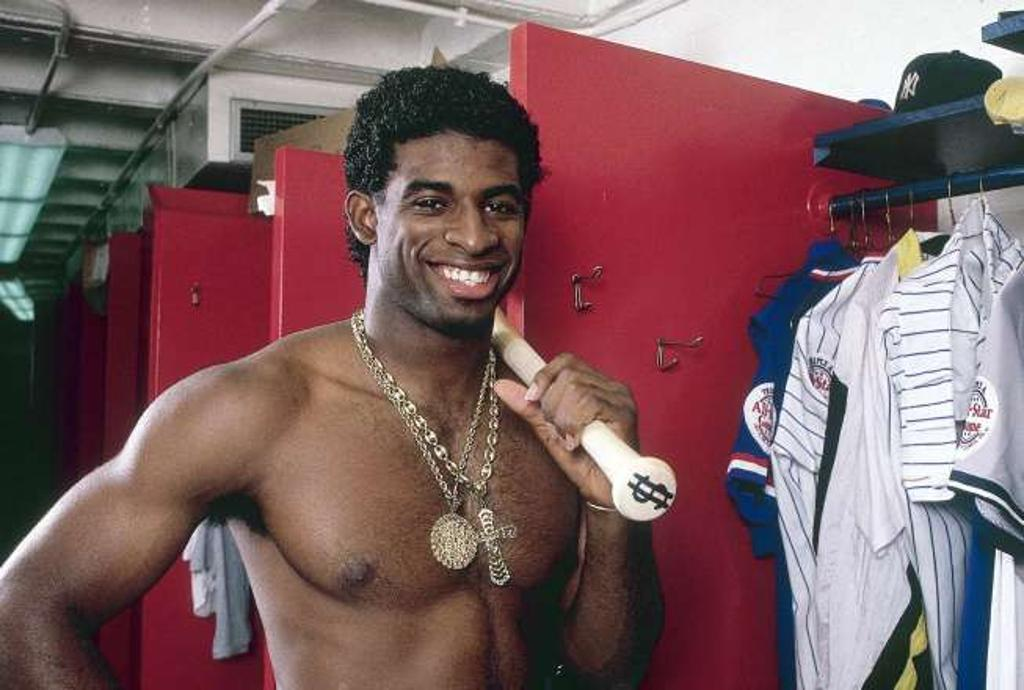face: (378, 128, 524, 318)
